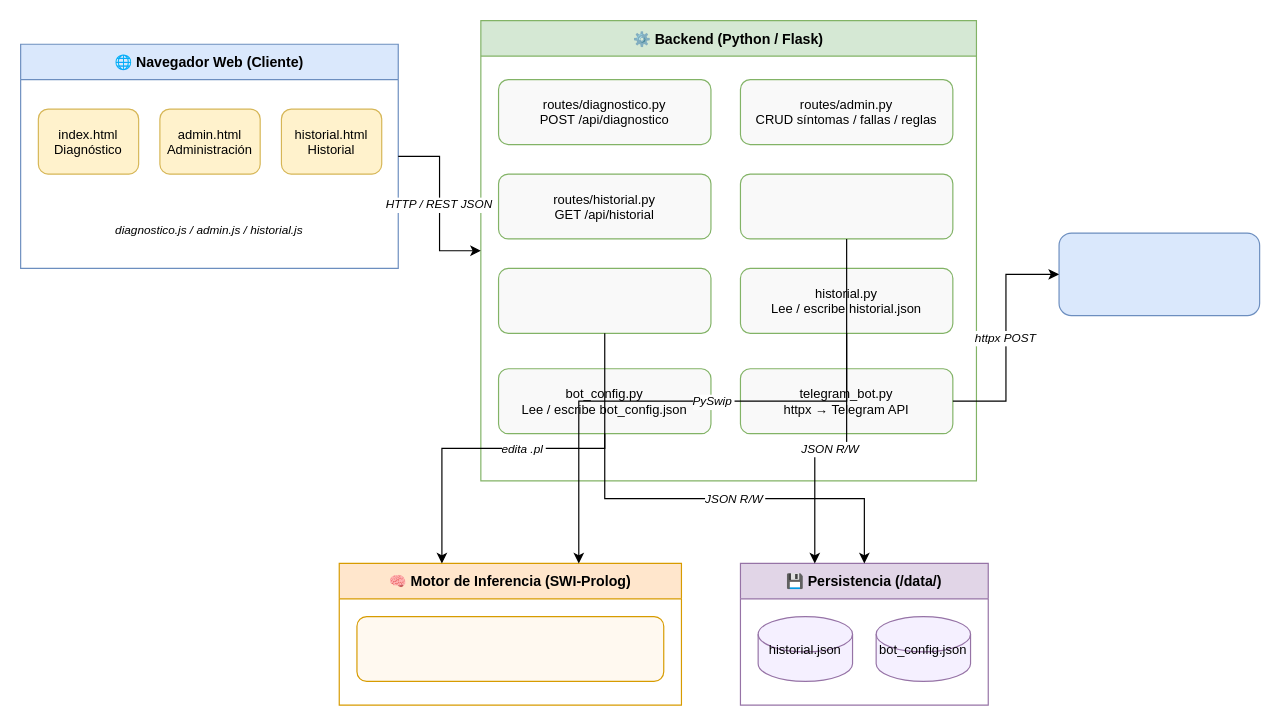
The diagram is 1280 pixels wide and 726 high, and some of its shapes have lost their labels. The shapes that lost their labels are listed below. From the top down, each one's centre as x and y in pixels, then its label:
At (846,206): "motor_prolog.py PySwip → SWI-Prolog".
At (1159,274): "✈️ Telegram Bot API api.telegram.org".
At (604,300): "prolog_editor.py Edita base_conocimiento.pl".
At (510,648): "base_conocimiento.pl 17 síntomas · 11 fallas · 27+ reglas · 40+ recomendaciones".
